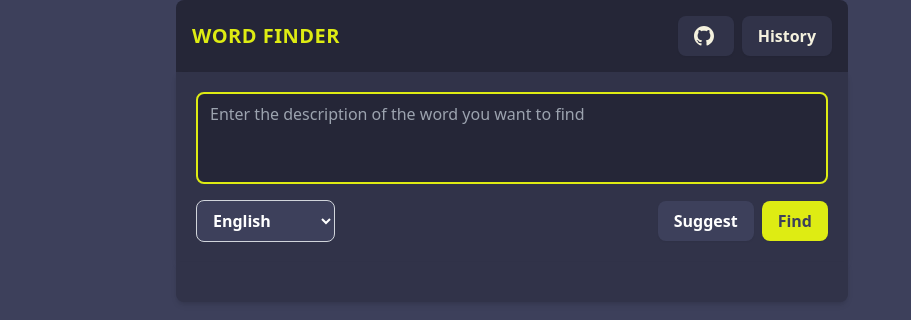
Test case: Responsive History Panel › should render history as sidebar on desktop
Click the history button
Click the button "History" at point(787, 36), box [742, 16, 832, 56]
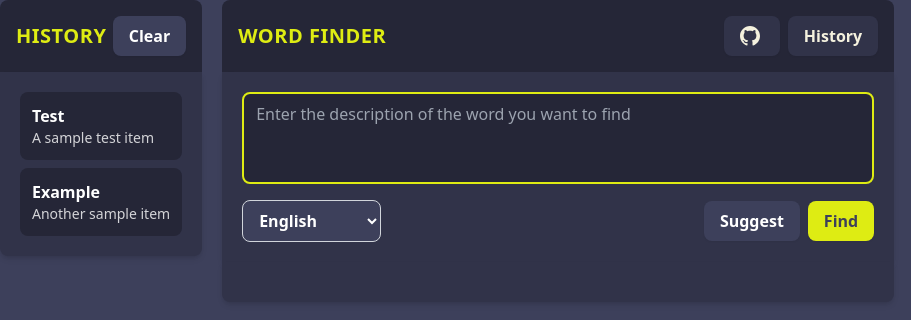
expect the 1st element with class "hidden" is shown: met, box [0, 0, 202, 302]
